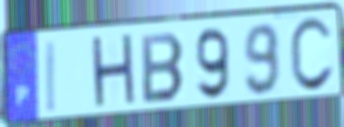9: (243, 21, 284, 98), (194, 26, 232, 102)
B: (139, 31, 187, 106)
C: (287, 15, 336, 96)
H: (89, 31, 139, 114)
I: (45, 39, 58, 116)
